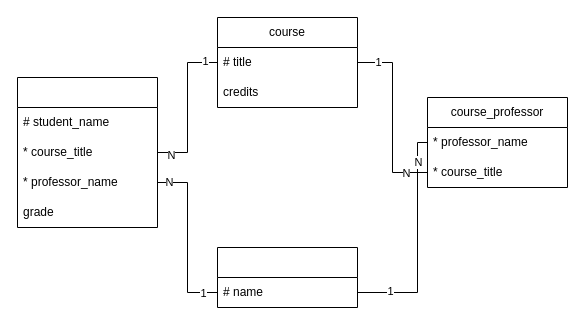
Some shapes in this 585 by 325 pixel diagram are drawn without their labels. The shapes that lost their labels are listed below. From the top down, each one's box as (x1, y1, x2, y2) in pixels, then its label:
(16, 76, 158, 228): exams
(216, 246, 358, 308): professor
